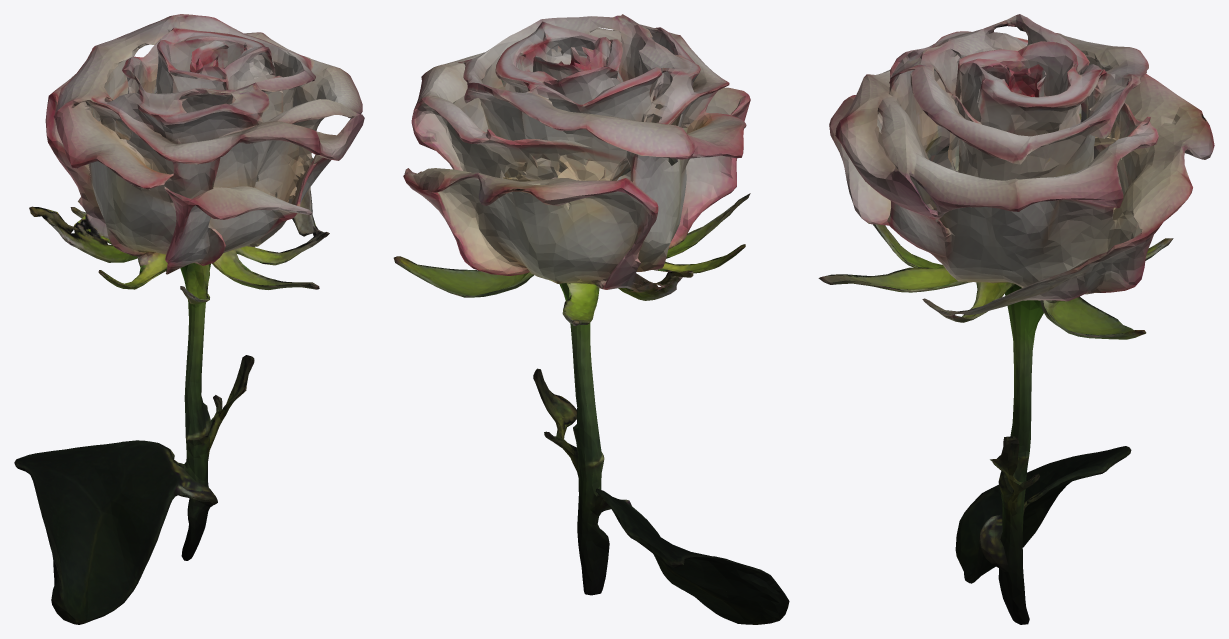
3 views of the same model, side by side, from view 1: azimuth 30°, elevation 25°; view 2: azimuth 150°, elevation 25°; view 3: azimuth 270°, elevation 25° (orthographic). The views are drawn at different scales.
Parts seen in each view (by area): view 1: world; view 2: world; view 3: world.
Part boxes in pixels (box(x1,y1,x2,y2)): world: box(14, 14, 364, 624); world: box(393, 14, 789, 624); world: box(818, 14, 1214, 624).
Size of the model in its own units: 0.6167 by 0.9603 by 0.579.
1 material, 1 textured.
